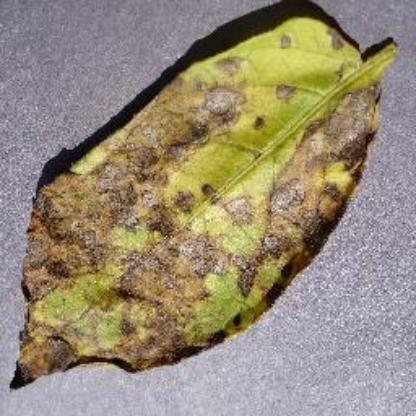Early-Blight: (12, 13, 398, 400)
